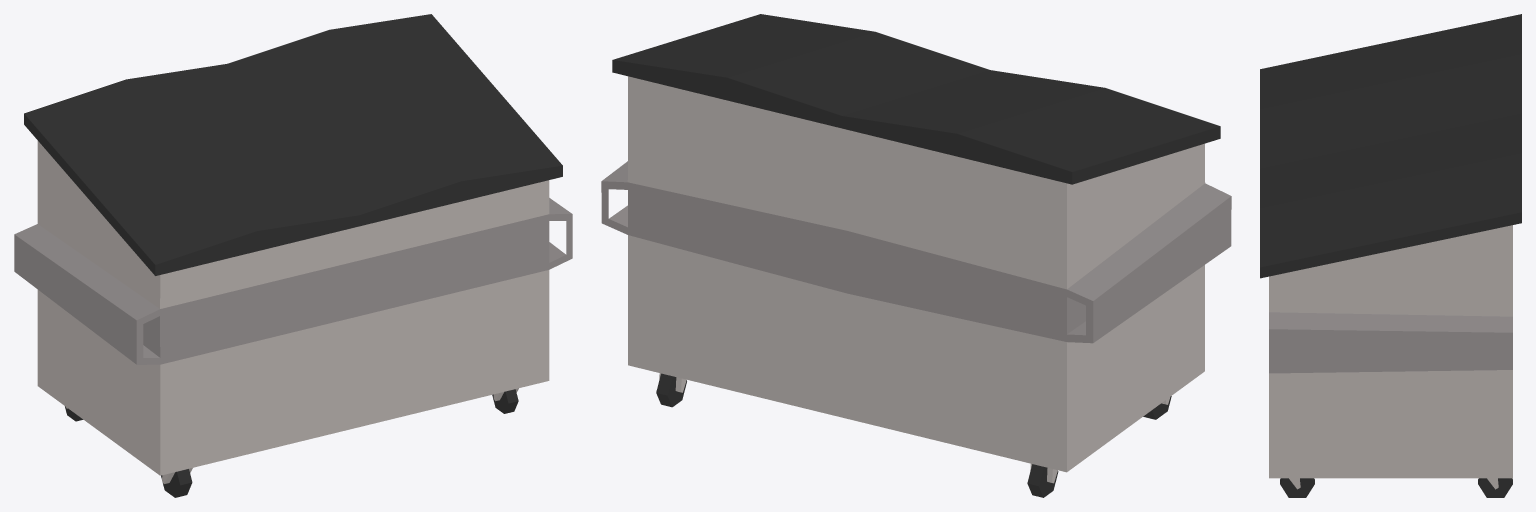
File: dumpster.glb
3 renders of one model, left to right at view 1: azimuth 30°, elevation 25°; view 2: azimuth 150°, elevation 25°; view 3: azimuth 270°, elevation 25°, orthographic. The views are drawn at different scales.
Visible parts, largest first — view 1: dumpster; view 2: dumpster; view 3: dumpster.
Boxes of the visible parts, left/top/right/bottom form: dumpster: left=14, top=14, right=572, bottom=497; dumpster: left=601, top=14, right=1231, bottom=497; dumpster: left=1260, top=14, right=1521, bottom=497.
Bounding box in the file's own units: 2.05 × 1.42 × 1.07.
1 material, 1 textured.
